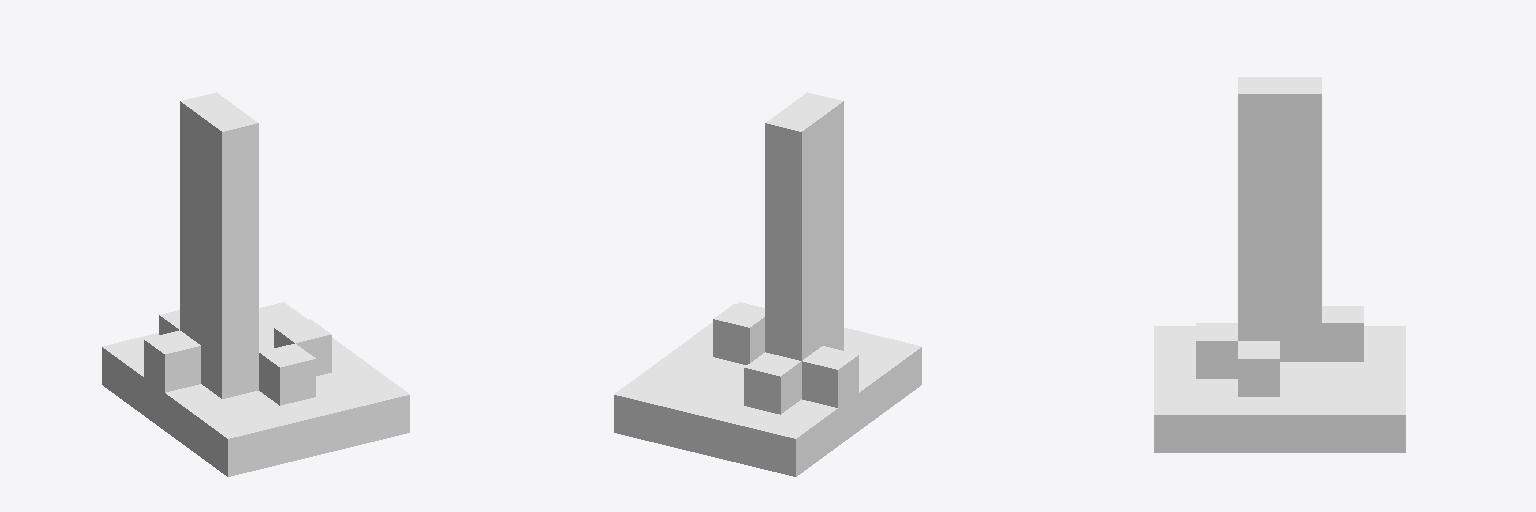
File: Desert-44-SmallWaterFountain_Water.obj
3 views of the same model, side by side, from view 1: azimuth 30°, elevation 25°; view 2: azimuth 150°, elevation 25°; view 3: azimuth 270°, elevation 25° (orthographic).
Parts seen in each view (by area): view 1: SmallWaterFountain_Water; view 2: SmallWaterFountain_Water; view 3: SmallWaterFountain_Water.
Boxes of the visible parts, x1,y1,x2,y2 form: SmallWaterFountain_Water: [102, 92, 409, 476]; SmallWaterFountain_Water: [614, 92, 921, 476]; SmallWaterFountain_Water: [1154, 77, 1405, 452].
Bounding box in the file's own units: 0.5 × 0.8 × 0.6.